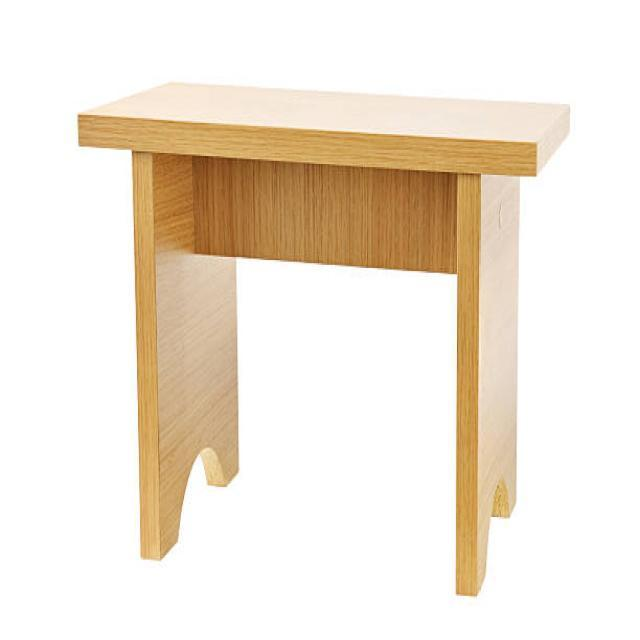table: (76, 79, 570, 596)
